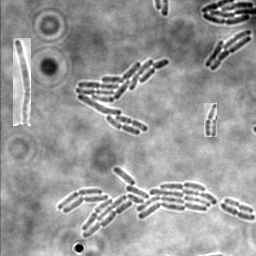Dividing: (13, 38, 31, 126), (219, 204, 255, 222), (223, 199, 253, 215), (204, 103, 217, 137)
Microcolony: (57, 167, 216, 238), (75, 59, 169, 136), (204, 30, 251, 72), (200, 1, 255, 26)
